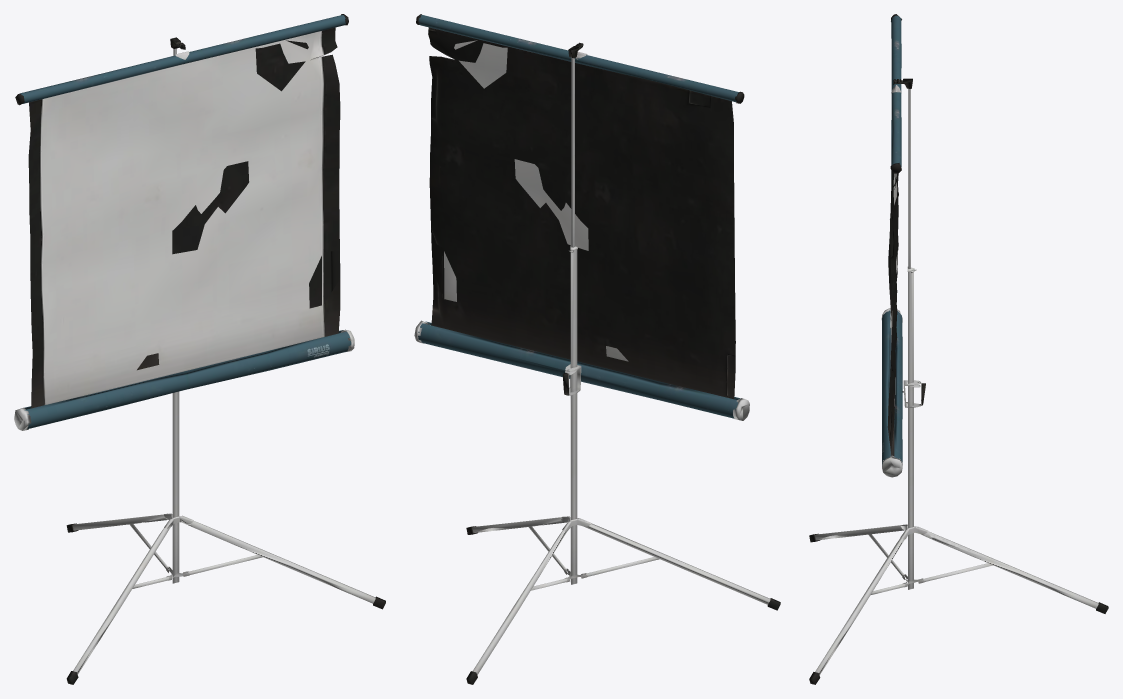
File: projector_screen.glb
3 renders of one model, left to right at view 1: azimuth 30°, elevation 25°; view 2: azimuth 150°, elevation 25°; view 3: azimuth 270°, elevation 25°, orthographic. The views are drawn at different scales.
Parts seen in each view (by area): view 1: projector_screen; view 2: projector_screen; view 3: projector_screen.
Boxes of the visible parts, x1=… form: projector_screen: x1=14, y1=14, x2=385, y2=684; projector_screen: x1=414, y1=14, x2=780, y2=684; projector_screen: x1=809, y1=14, x2=1108, y2=684.
Size of the model in its own units: 1.09 by 1.8 by 0.9157.
2 materials, 2 textured.
